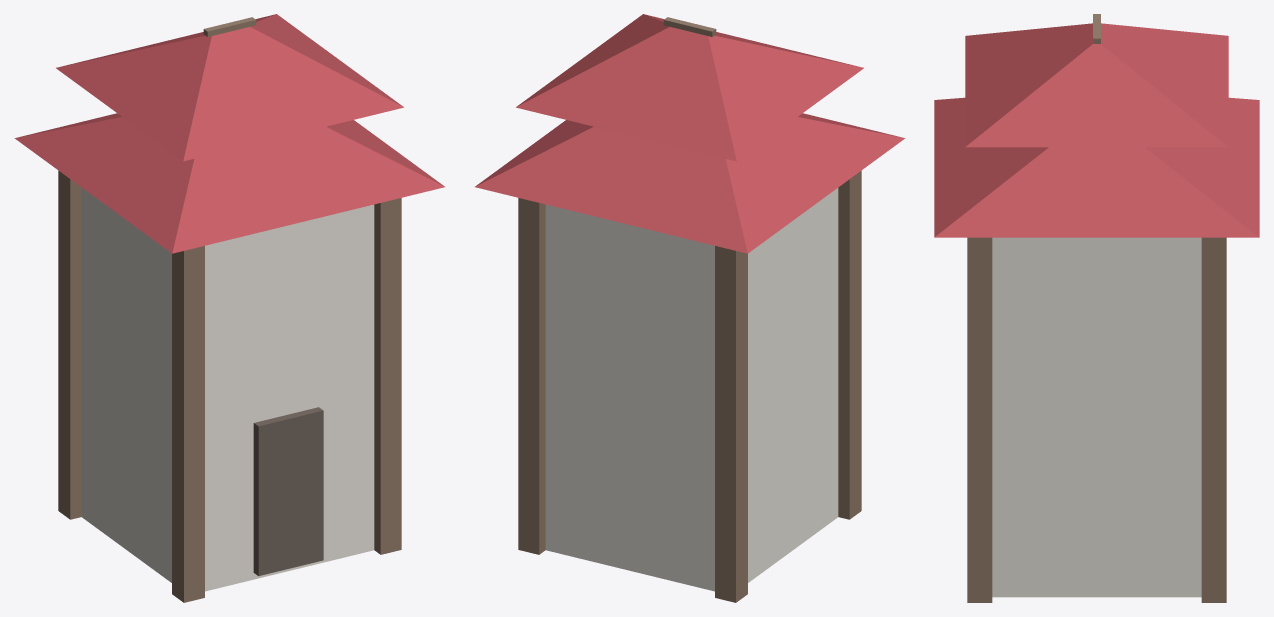
Rendered from tower_a.glb.
The picture shows the model from 3 angles, left to right: view 1: azimuth 30°, elevation 25°; view 2: azimuth 150°, elevation 25°; view 3: azimuth 270°, elevation 25°; orthographic projection. The views are drawn at different scales.
Bounding box in the file's own units: 4.2 × 7.43 × 4.2.
